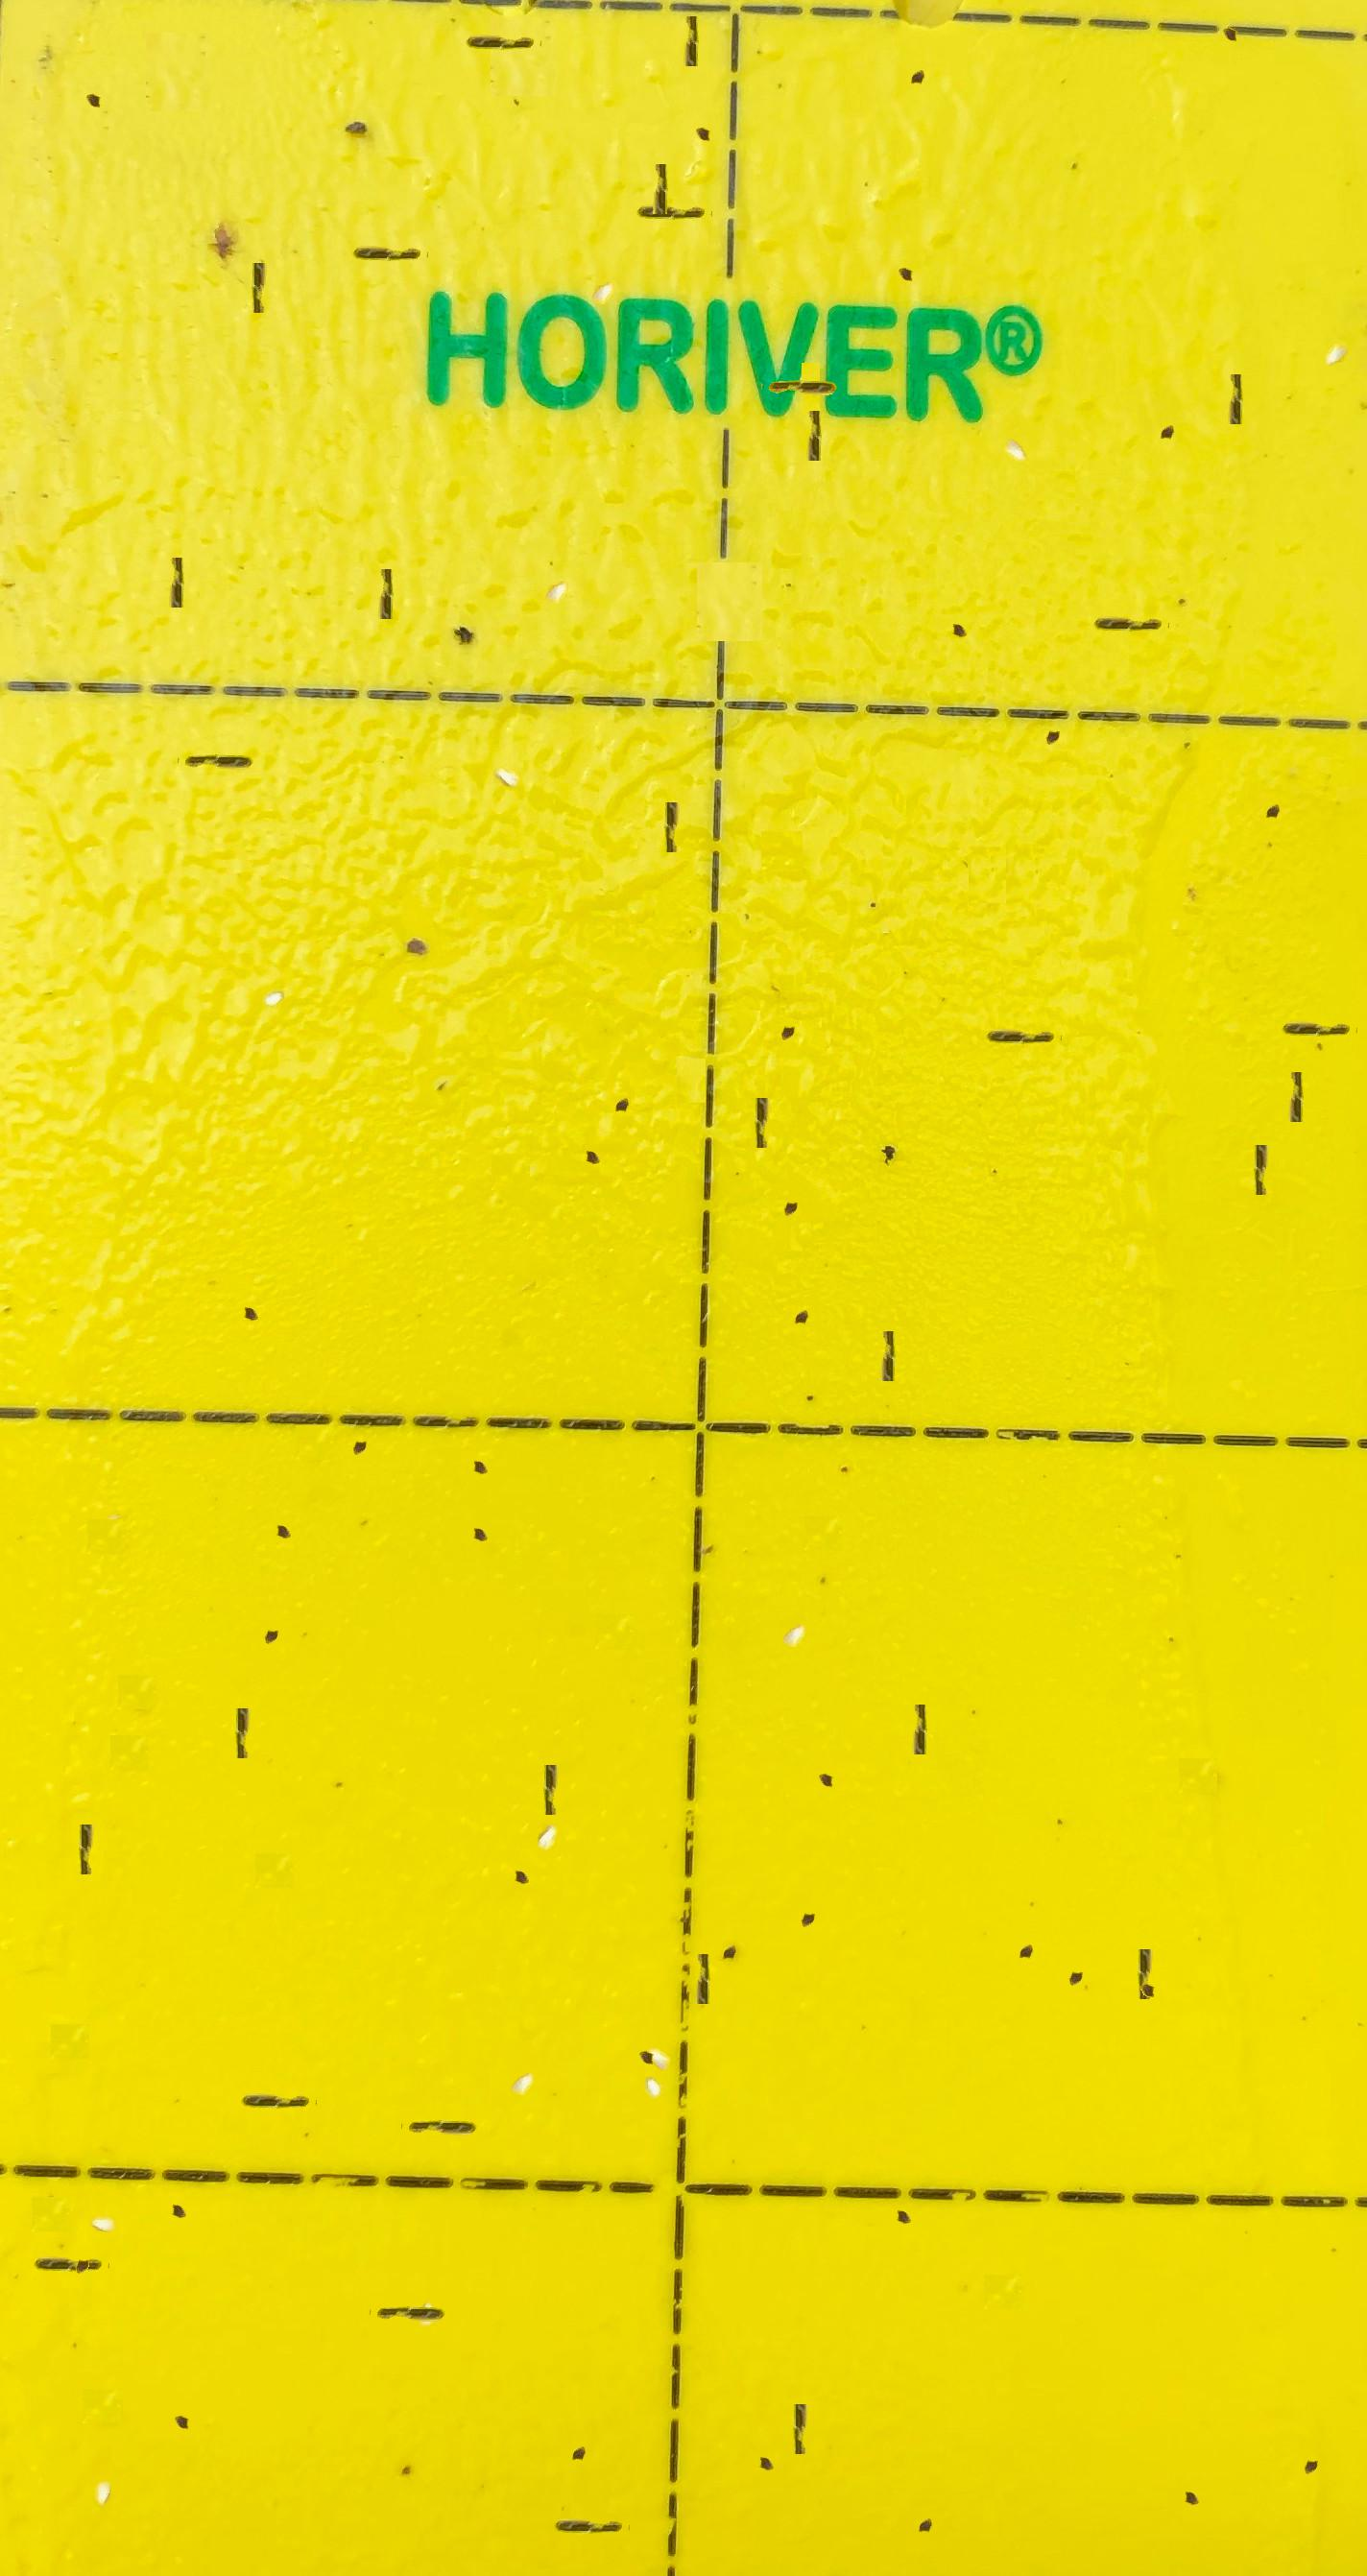white_fly: (528, 1772, 571, 1818), (252, 927, 293, 975), (632, 2017, 673, 2065), (535, 528, 578, 572), (501, 2021, 544, 2063), (994, 385, 1036, 428), (772, 1573, 815, 1615), (581, 230, 624, 273), (639, 1995, 680, 2039), (489, 709, 530, 753), (1316, 290, 1357, 332), (85, 2436, 126, 2474), (404, 2259, 445, 2297), (84, 2171, 124, 2208)
